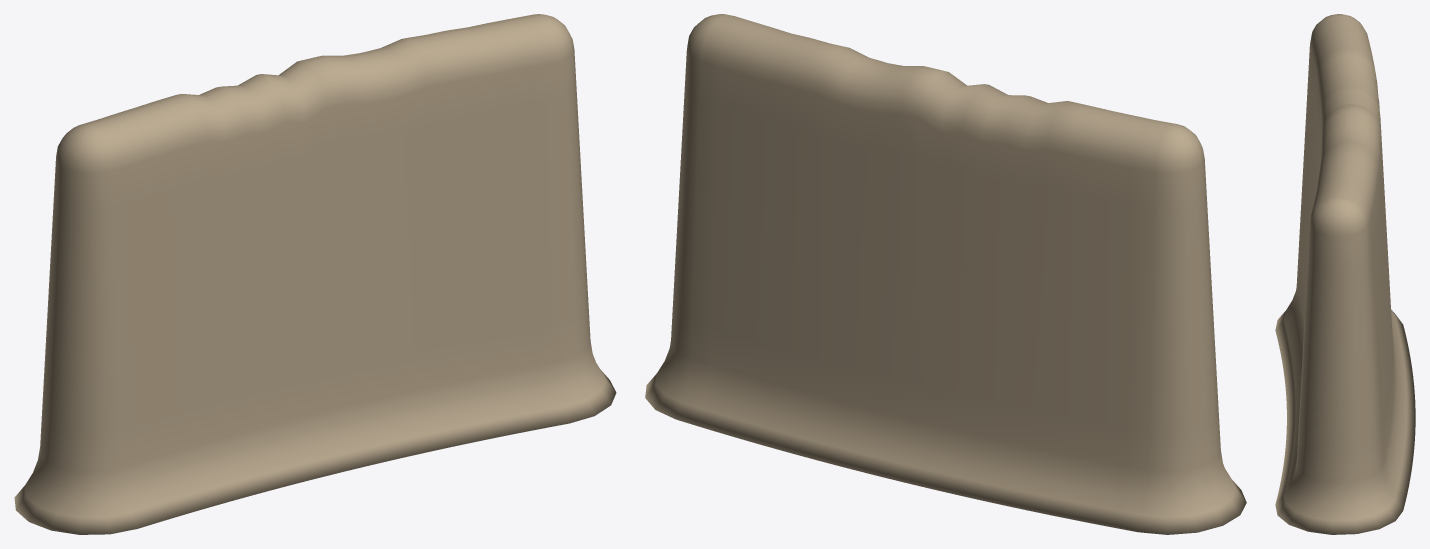
The model's file is KFB_Wall_curved_ring_r5_capAB.r1.glb.
3 renders of one model, left to right at view 1: azimuth 30°, elevation 25°; view 2: azimuth 150°, elevation 25°; view 3: azimuth 270°, elevation 25°, orthographic. The views are drawn at different scales.
Visible parts, largest first — view 1: KFB_Wall_curved_ring_r5_capAB; view 2: KFB_Wall_curved_ring_r5_capAB; view 3: KFB_Wall_curved_ring_r5_capAB.
Part boxes in pixels (x1,y1,x2,y2): KFB_Wall_curved_ring_r5_capAB: (14,14,616,534); KFB_Wall_curved_ring_r5_capAB: (645,14,1246,534); KFB_Wall_curved_ring_r5_capAB: (1275,14,1415,534).
Bounding box in the file's own units: 5.82 × 3.63 × 1.47.
